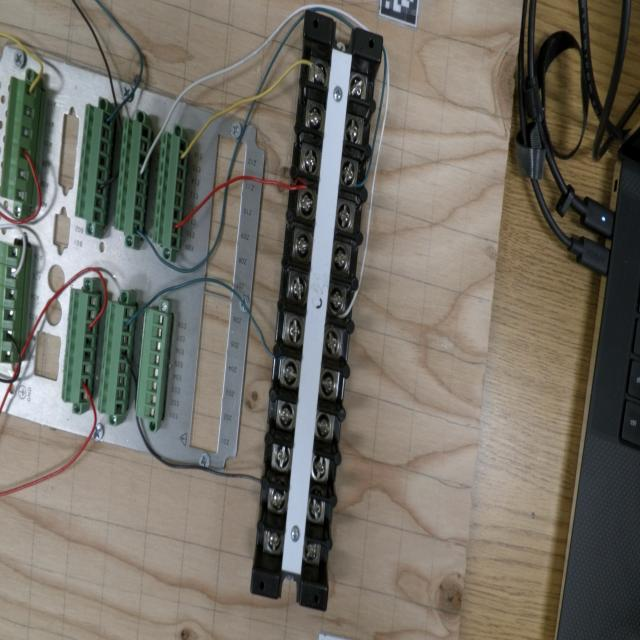Phillips_Block: (250, 10, 384, 611)
Terminal_1: (0, 76, 40, 205)
Terminal_2: (74, 103, 116, 226), (114, 117, 152, 238), (61, 288, 100, 405), (152, 131, 189, 250), (97, 300, 134, 416)
